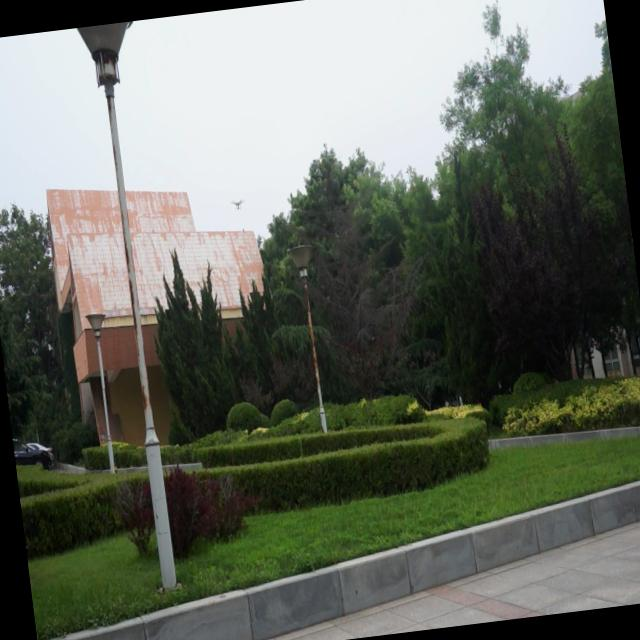drone: (226, 194, 248, 214)
